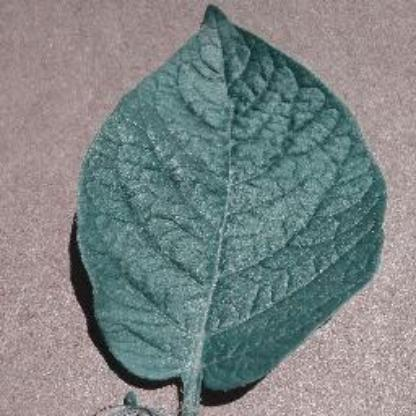Healthy-plant: (70, 3, 387, 415)
